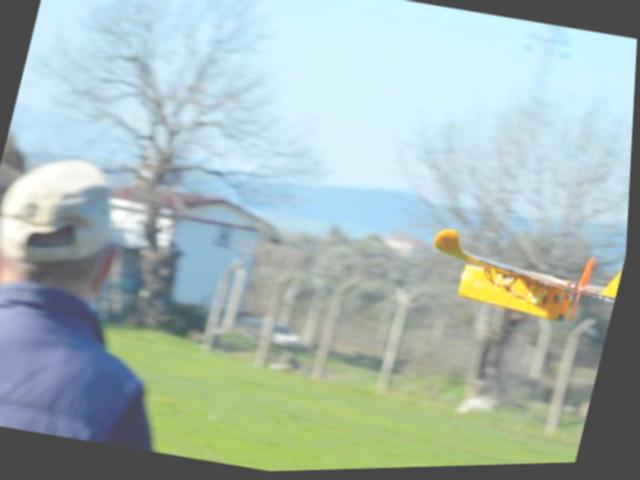iha: (405, 196, 631, 340)
